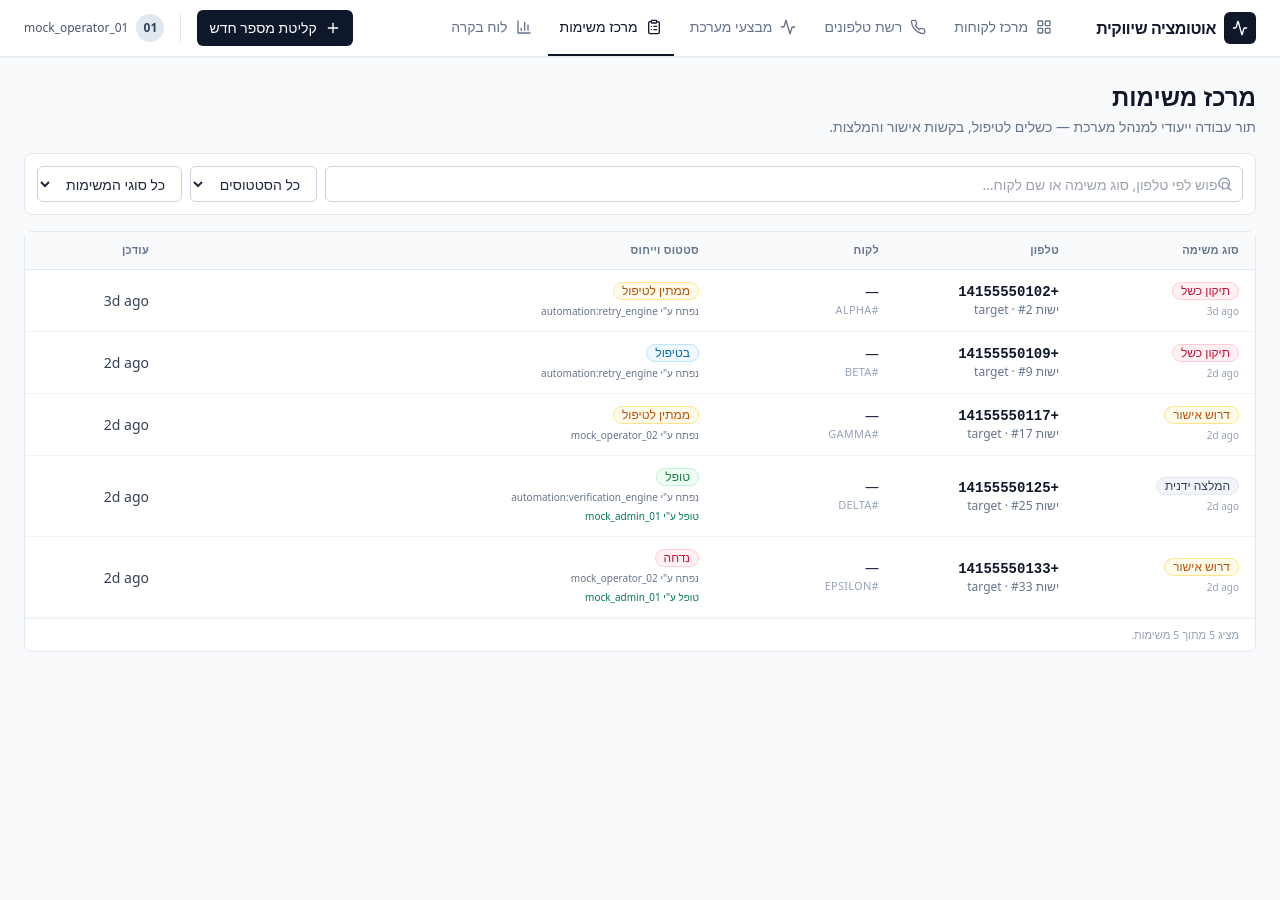
Test: Operations Queue — filter behavior › narrows the table when status is filtered
Expected: the text "+14155550102" is shown, x1=958 y1=284 x2=1059 y2=300
Expected: the text "+14155550117" is shown, x1=958 y1=408 x2=1059 y2=424
Select "ממתין לטיפול" in the 2nd dropdown at x=254, y=184, box x1=190 y1=166 x2=317 y2=202
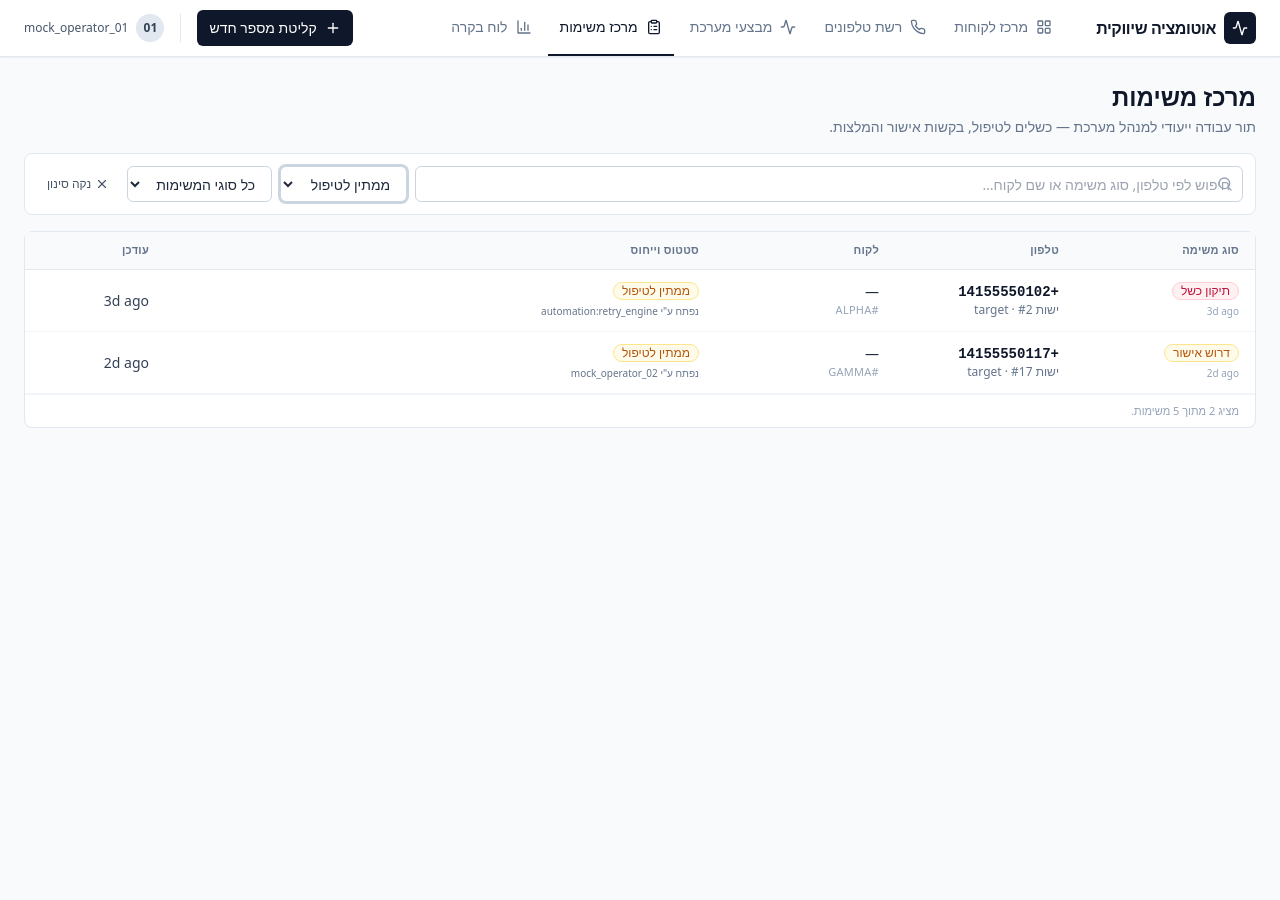
Expected: the text "+14155550117" is shown, x1=958 y1=346 x2=1059 y2=362
Expected: the text "+14155550125" is gone
